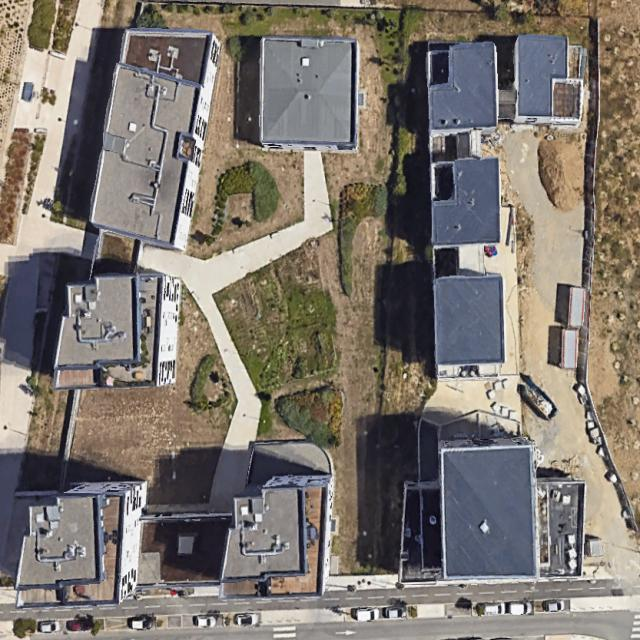immeuble: (423, 45, 586, 364), (10, 473, 338, 608), (81, 15, 228, 251), (401, 417, 585, 593), (54, 273, 181, 388), (260, 36, 356, 149)
